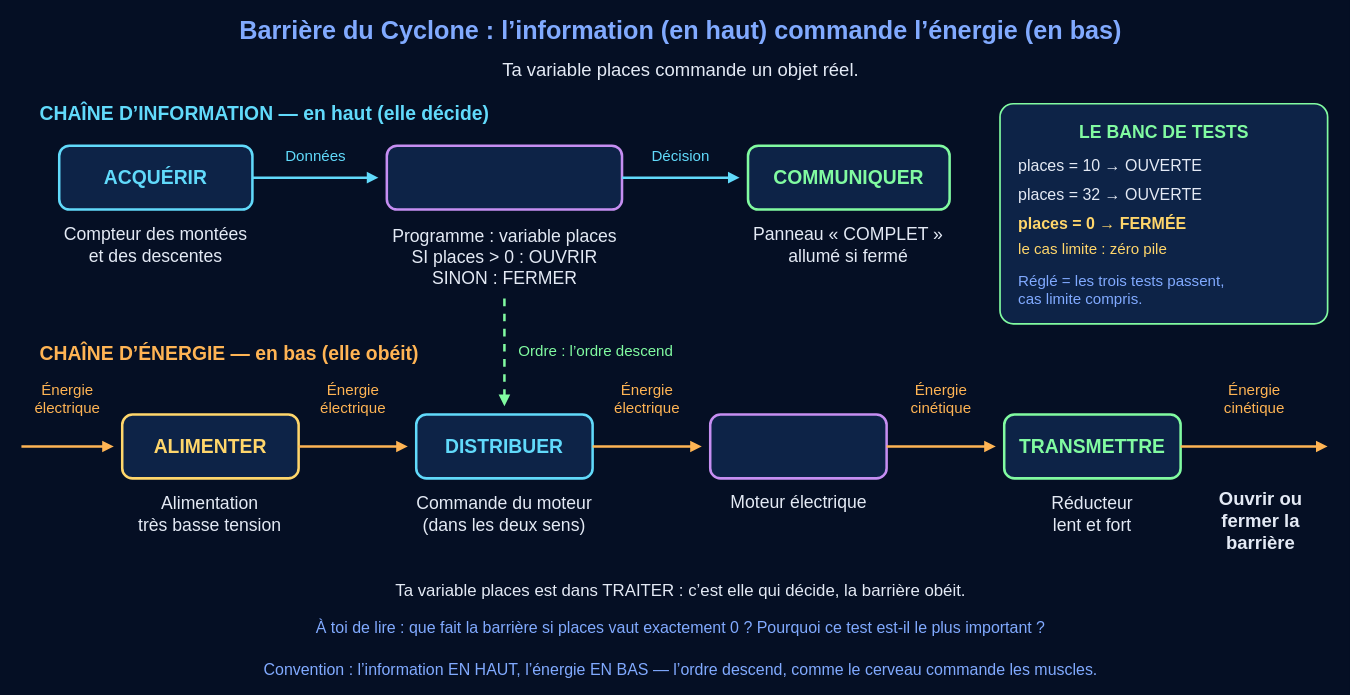
The diagram is 1350 pixels wide and 695 high, and some of its shapes have lost their labels. The shapes that lost their labels are listed below. From the top down, each one's box as (x1, y1, x2, y2) in pixels, then its label:
(385, 144, 623, 210): TRAITER
(709, 413, 887, 479): CONVERTIR
